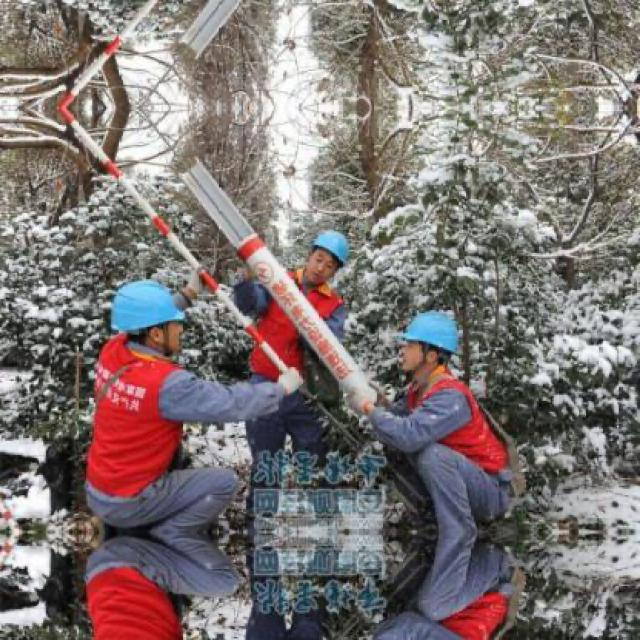helmet: (116, 274, 190, 358), (394, 306, 466, 382), (303, 227, 351, 285)
